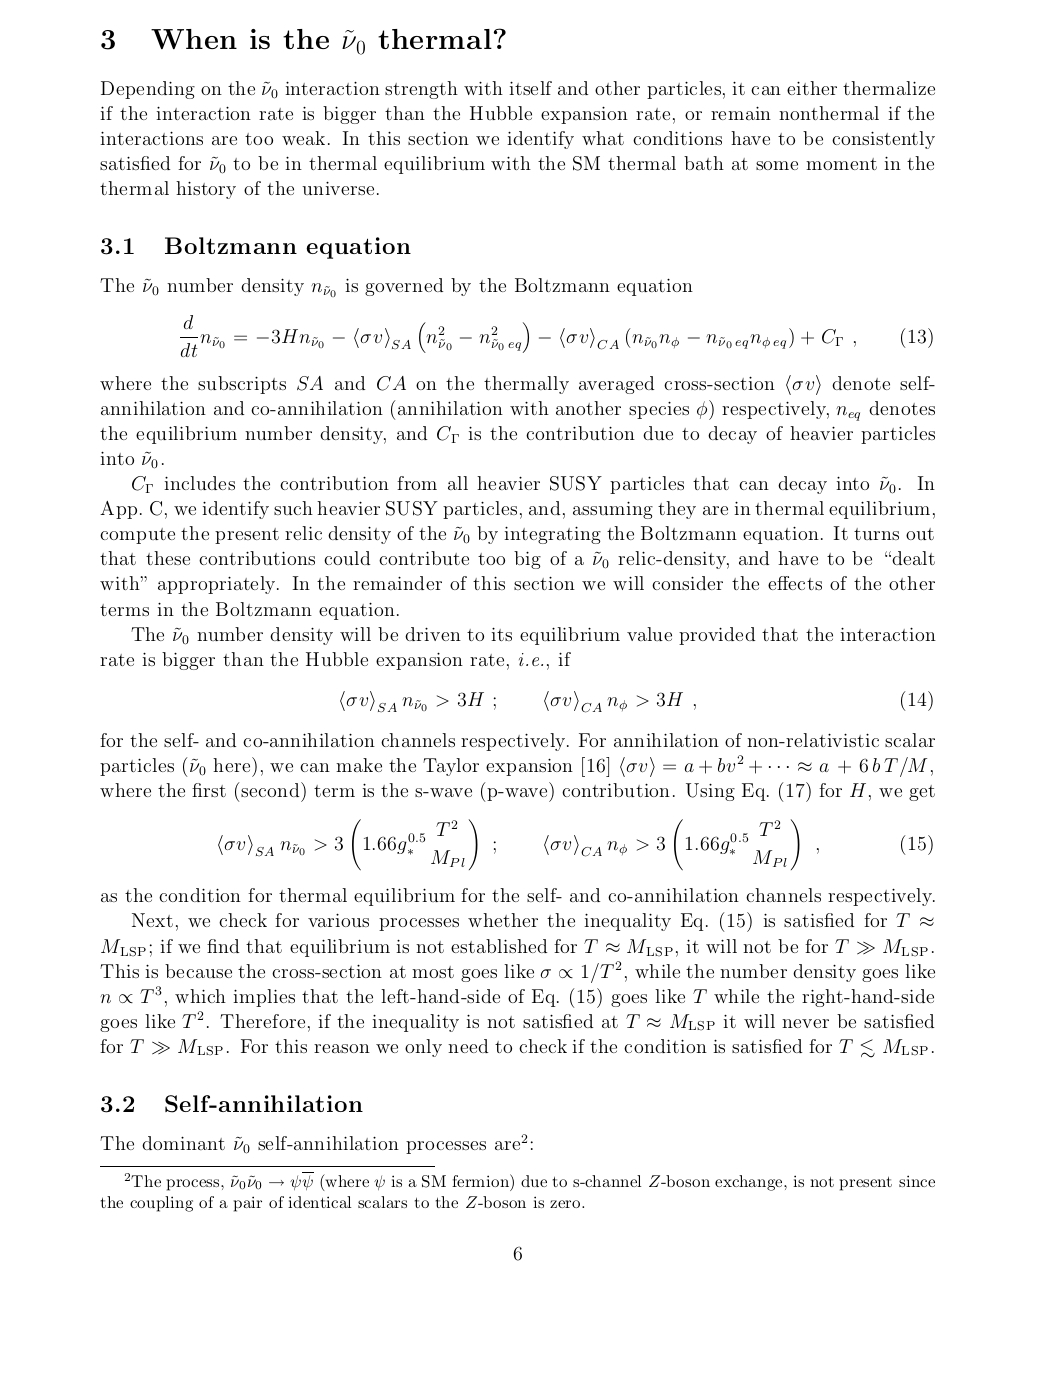formula: (218, 818, 932, 871), (181, 314, 932, 358), (340, 690, 932, 713)
